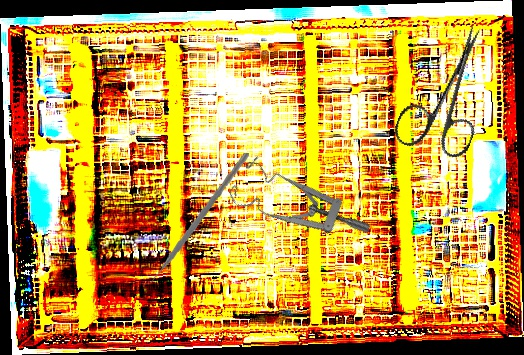Chopper: (136, 144, 250, 293)
Iris Scissors: (390, 11, 511, 167)
Speculum: (221, 135, 372, 283)
